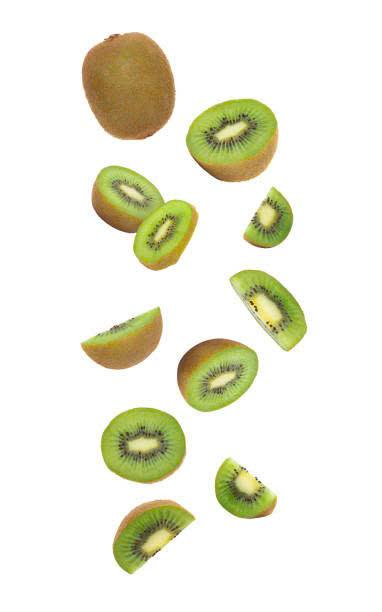kiwi: (84, 149, 209, 266), (79, 33, 189, 157), (230, 261, 329, 366), (199, 93, 293, 179), (96, 490, 193, 571), (94, 401, 186, 479), (176, 317, 248, 416), (206, 453, 280, 527), (84, 299, 160, 369), (246, 181, 294, 262)
